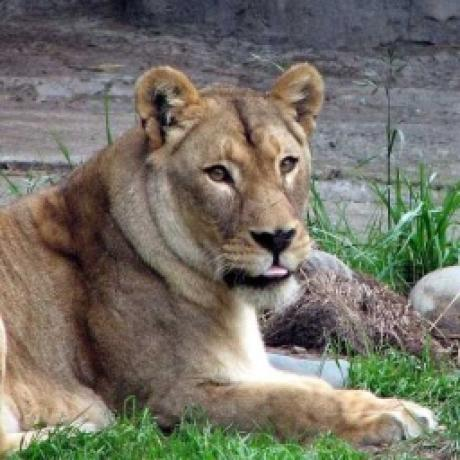Lion: (0, 60, 407, 460)
